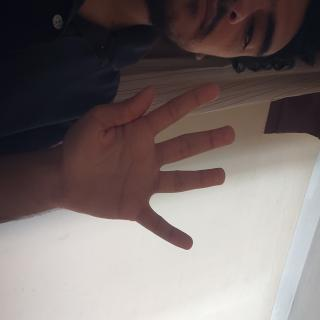SHEEN: (57, 110, 187, 320)
